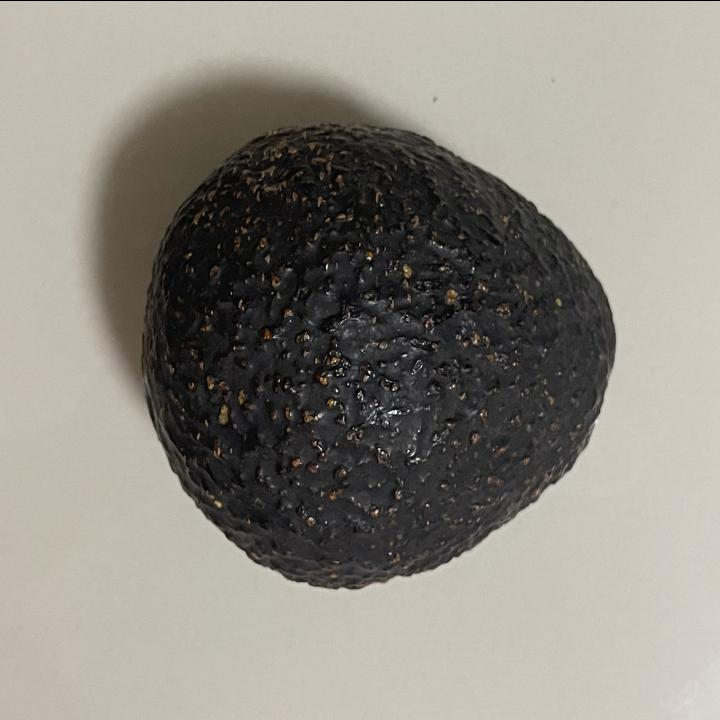Level3: (133, 112, 627, 602)
